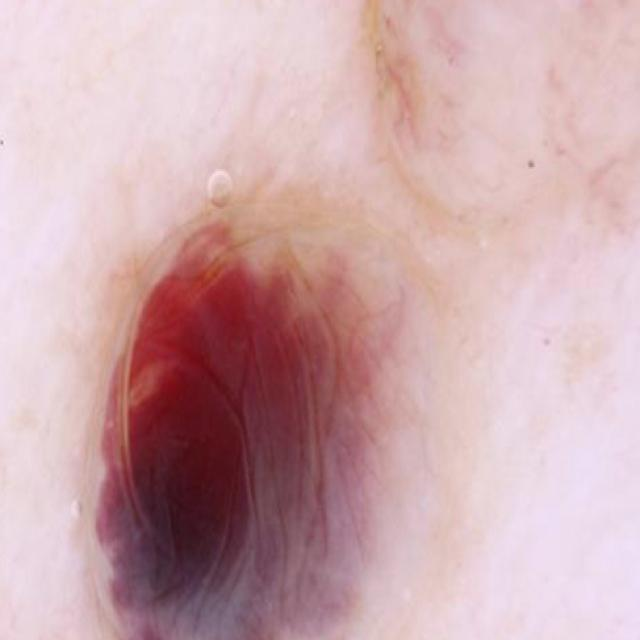Vascular Lesions: (78, 216, 469, 640), (370, 0, 640, 192)
